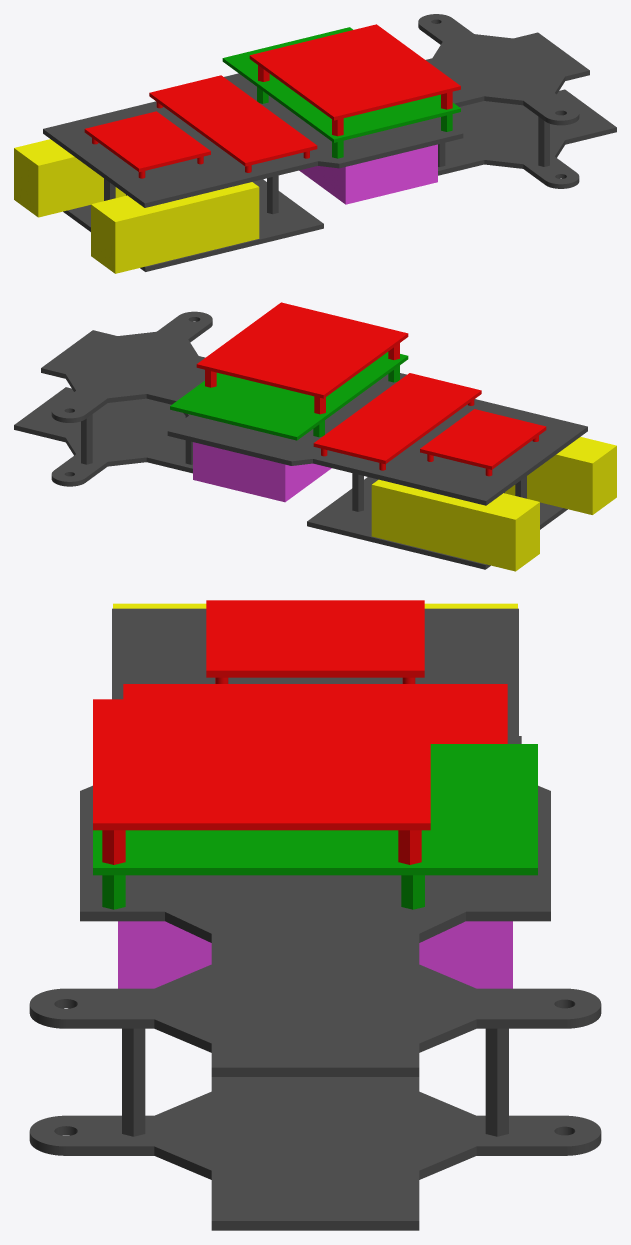
File: Chassis.dae
The picture shows the model from 3 angles, top to bottom: view 1: azimuth 30°, elevation 25°; view 2: azimuth 150°, elevation 25°; view 3: azimuth 270°, elevation 25°; orthographic projection. The views are drawn at different scales.
Visible parts, largest first — view 1: node0, node9, node4, node2, node7, node8, node5, node3, node6, node1; view 2: node0, node9, node5, node2, node8, node7, node4, node3, node6, node1; view 3: node0, node2, node9, node8, node6, node3, node7.
Part boxes in pixels (bbox=[...]): node0: bbox=[43, 14, 589, 207]; node9: bbox=[249, 24, 460, 136]; node4: bbox=[91, 182, 259, 273]; node2: bbox=[438, 89, 616, 188]; node7: bbox=[149, 75, 317, 172]; node8: bbox=[222, 27, 460, 158]; node5: bbox=[14, 139, 125, 217]; node3: bbox=[299, 144, 437, 204]; node6: bbox=[84, 111, 210, 178]; node1: bbox=[63, 175, 323, 271]; node0: bbox=[41, 311, 587, 505]; node9: bbox=[196, 302, 408, 414]; node5: bbox=[371, 479, 539, 571]; node2: bbox=[14, 387, 192, 486]; node8: bbox=[170, 352, 408, 440]; node7: bbox=[313, 373, 481, 470]; node4: bbox=[505, 437, 616, 514]; node3: bbox=[193, 442, 331, 502]; node6: bbox=[420, 409, 546, 476]; node1: bbox=[307, 473, 567, 569]; node0: bbox=[29, 608, 601, 1076]; node2: bbox=[29, 1028, 601, 1230]; node9: bbox=[93, 699, 430, 864]; node8: bbox=[93, 744, 537, 909]; node6: bbox=[206, 600, 424, 683]; node3: bbox=[118, 921, 512, 988]; node7: bbox=[123, 684, 507, 743].
Bounding box in the file's own units: 0.234 × 0.11 × 0.048.
